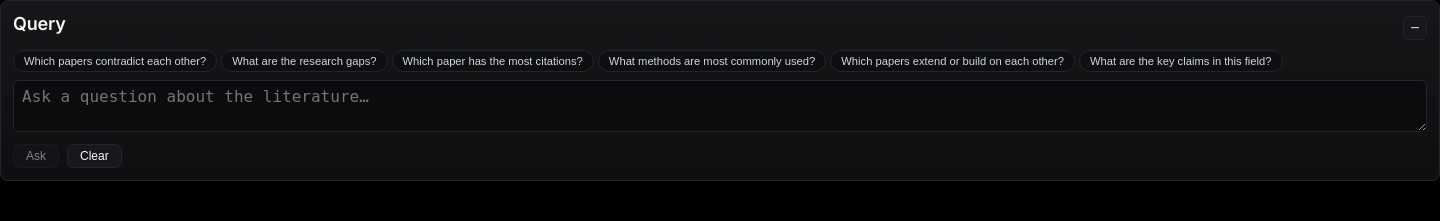
Test: QueryInterface › shows a loading indicator while the query is in flight
Step 1. Type "q" into the text box with test id "query-input" → (720, 106), box [13,80,1427,132]
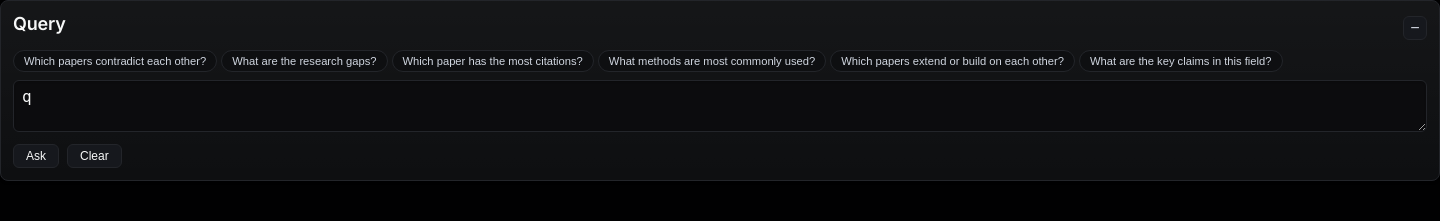
Step 2. Click the button with test id "query-ask" → (36, 156), box [13,144,59,168]
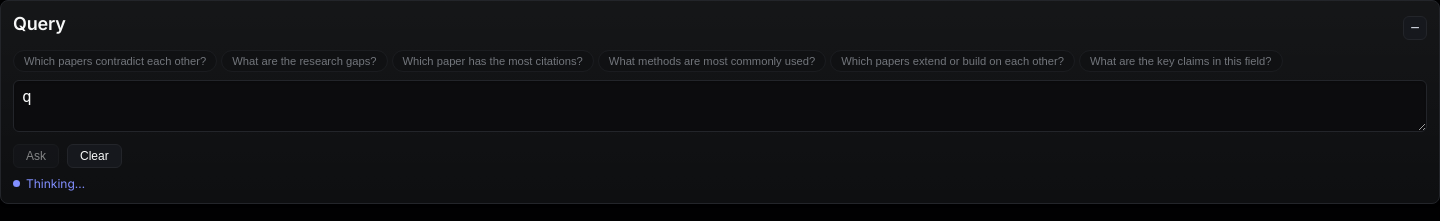
Expected: the element with test id "query-loading" reads "Thinking…", [26,176,85,191]
